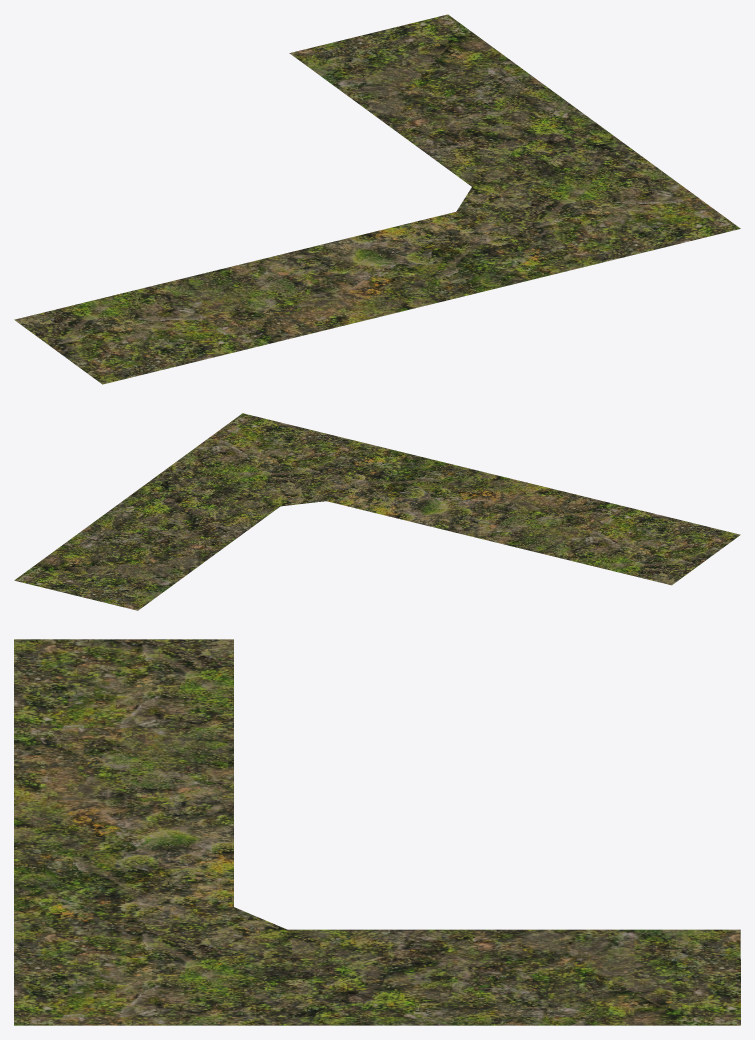
File: Planter_DirtPlane_Lshape02.FBX
3 renders of one model, top to bottom at view 1: azimuth 30°, elevation 25°; view 2: azimuth 150°, elevation 25°; view 3: azimuth 270°, elevation 25°, orthographic. The views are drawn at different scales.
Parts seen in each view (by area): view 1: Planter_DirtPlane_Lshape02; view 2: Planter_DirtPlane_Lshape02; view 3: Planter_DirtPlane_Lshape02.
Part boxes in pixels (x1=…): Planter_DirtPlane_Lshape02: x1=14, y1=14, x2=740, y2=384; Planter_DirtPlane_Lshape02: x1=14, y1=413, x2=740, y2=610; Planter_DirtPlane_Lshape02: x1=14, y1=639, x2=740, y2=1025.
Bounding box in the file's own units: 5.35 × 1.2e-15 × 4.25.
